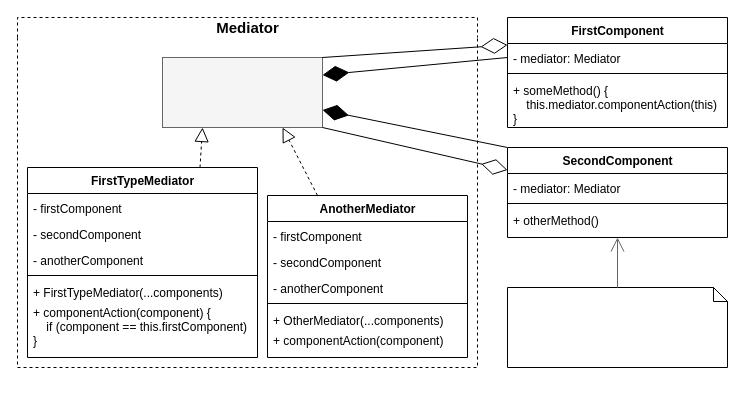
This 745x409 diagram has some shape labels left out. The shapes that lost their labels are listed below. From the top down, each one's centre as x and y in pixels, then its label:
At point (242, 92): "<<Interface>> Mediator + componentAction()".
At point (617, 327): "Context component = new SecondComponent() component.otherMethod()".
